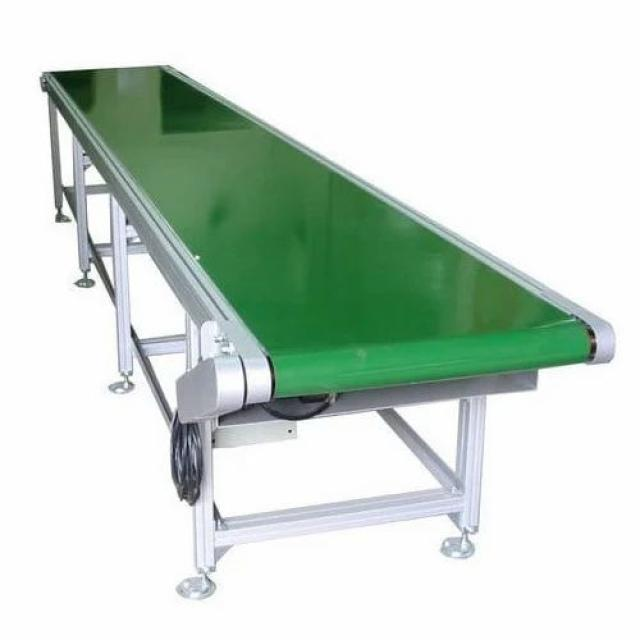conveyor: (24, 52, 636, 539)
